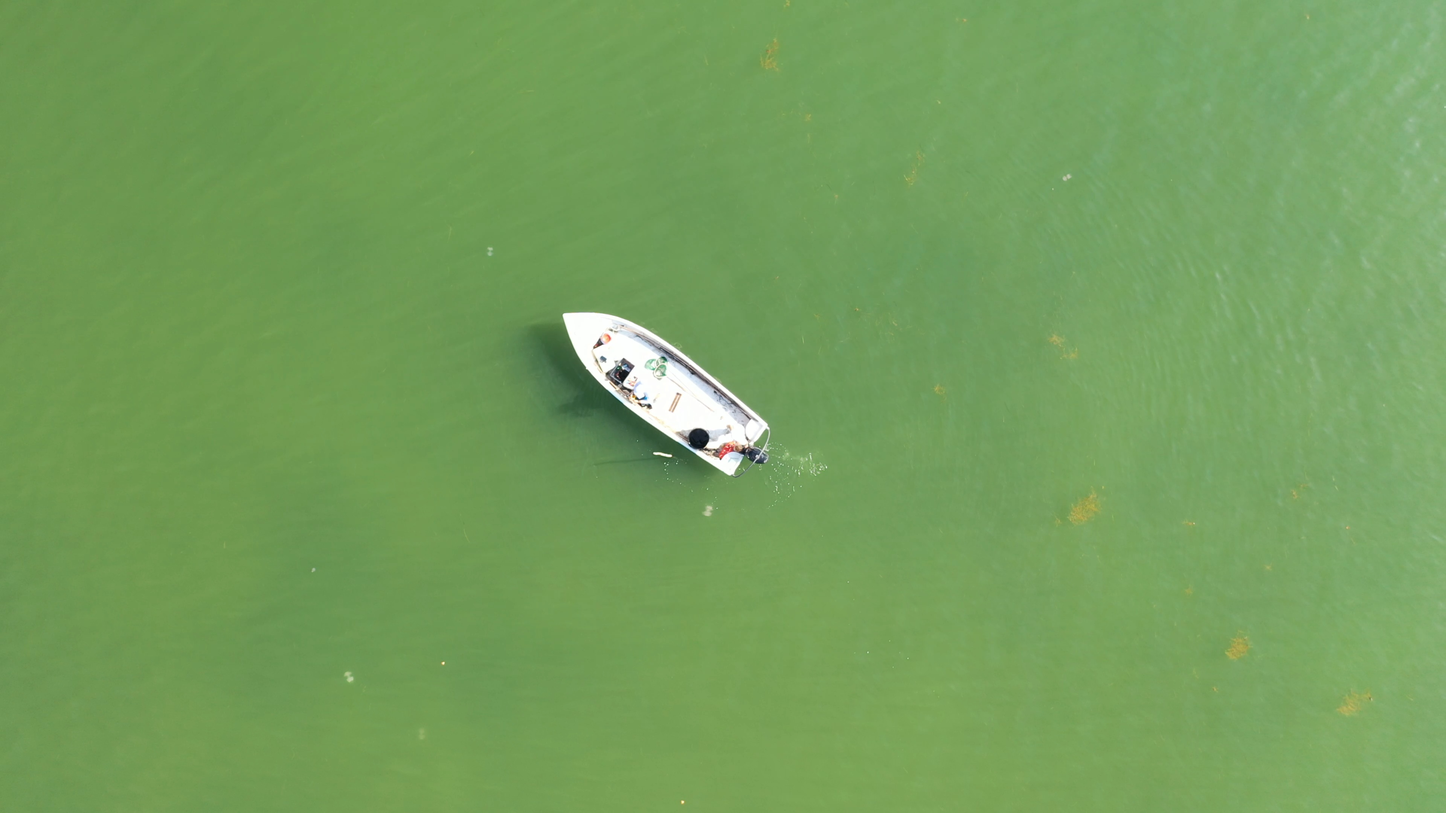meduse: (345, 670, 354, 683), (703, 505, 712, 517), (485, 245, 495, 255), (1062, 172, 1071, 182), (418, 728, 426, 739), (311, 566, 316, 573)
